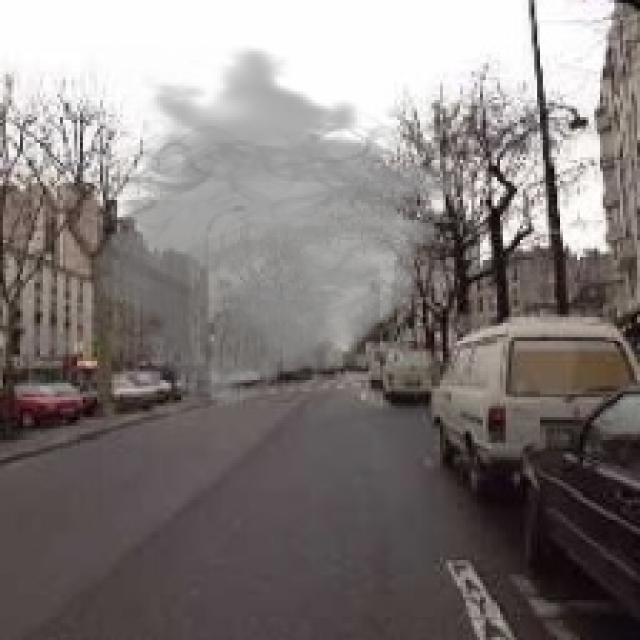Smoke: (54, 46, 477, 408)
